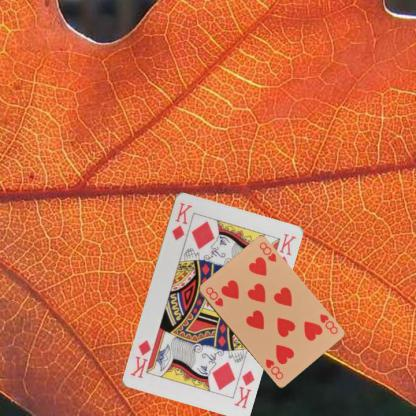8h: (316, 311, 338, 336), (203, 284, 224, 308)
Kd: (231, 367, 256, 410), (169, 199, 193, 242)
